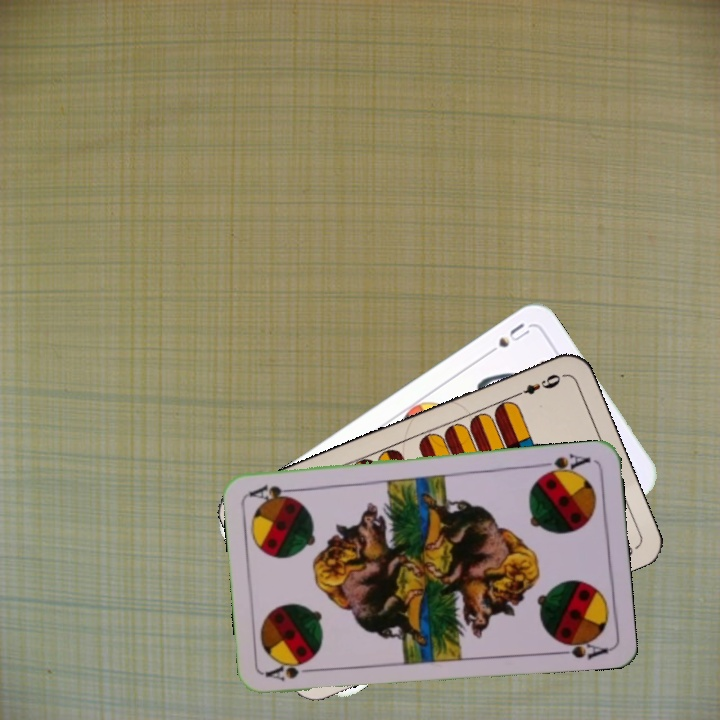E9: (510, 370, 566, 400)
SA: (536, 449, 593, 479), (262, 658, 321, 684)
SU: (479, 319, 533, 360)
